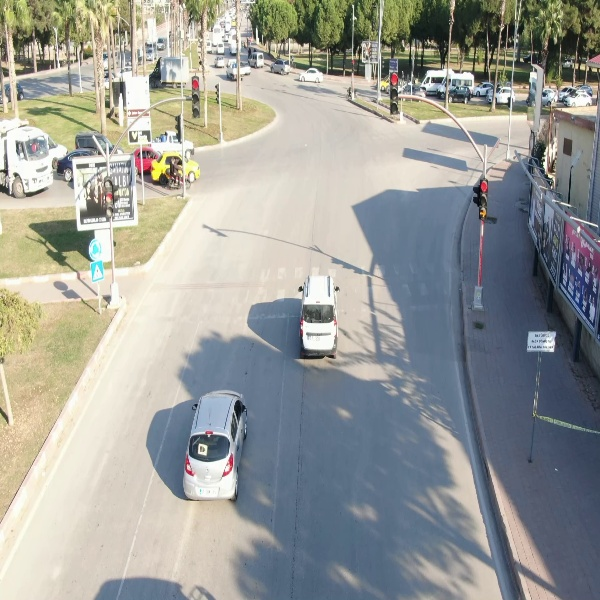car: (182, 388, 249, 501), (296, 273, 342, 359), (564, 90, 594, 108), (446, 85, 472, 105), (487, 87, 515, 105), (298, 67, 324, 85), (268, 57, 293, 75), (247, 50, 265, 69), (213, 54, 226, 70)
